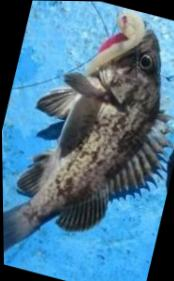fish: (2, 26, 174, 253)
